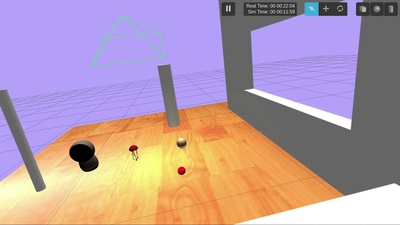mira_robot: (177, 138, 187, 148)
